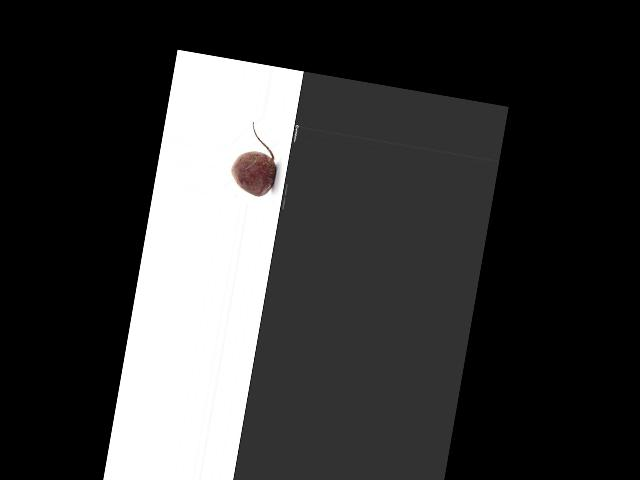beet: (228, 120, 283, 199)
